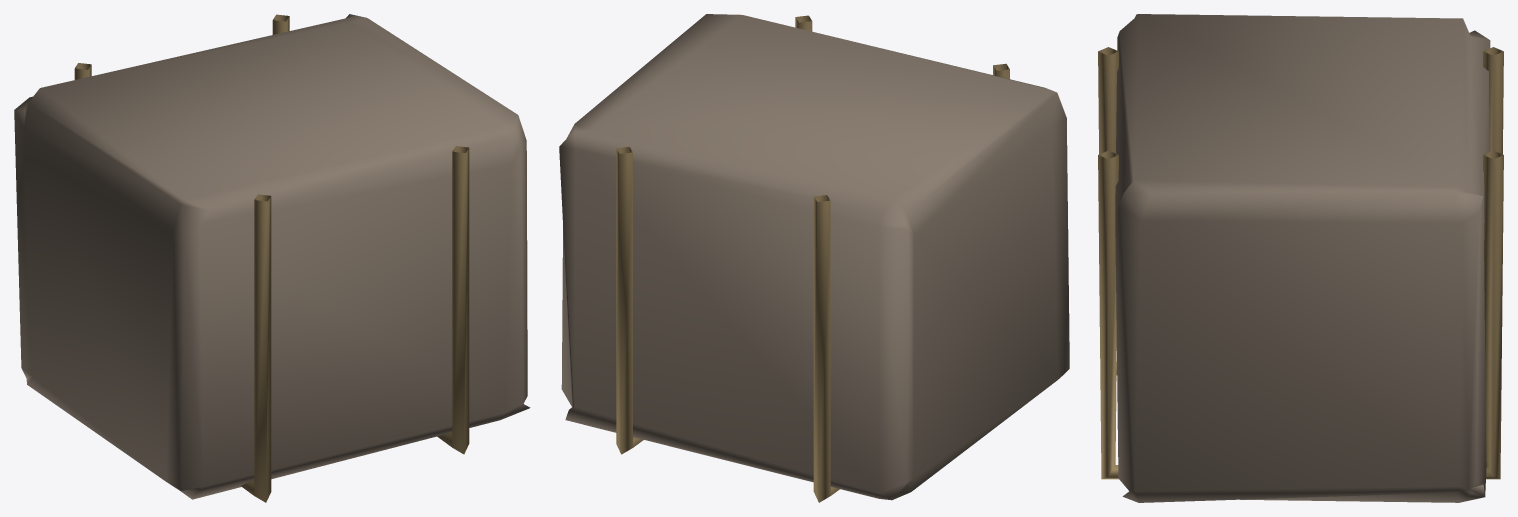
File: stone_block.glb
3 views of the same model, side by side, from view 1: azimuth 30°, elevation 25°; view 2: azimuth 150°, elevation 25°; view 3: azimuth 270°, elevation 25° (orthographic). The views are drawn at different scales.
Visible parts, largest first — view 1: stone_block; view 2: stone_block; view 3: stone_block.
Boxes of the visible parts, left/top/right/bottom form: stone_block: left=14, top=14, right=530, bottom=502; stone_block: left=559, top=14, right=1069, bottom=502; stone_block: left=1098, top=14, right=1503, bottom=502.
Bounding box in the file's own units: 0.5044 × 0.4134 × 0.464.
